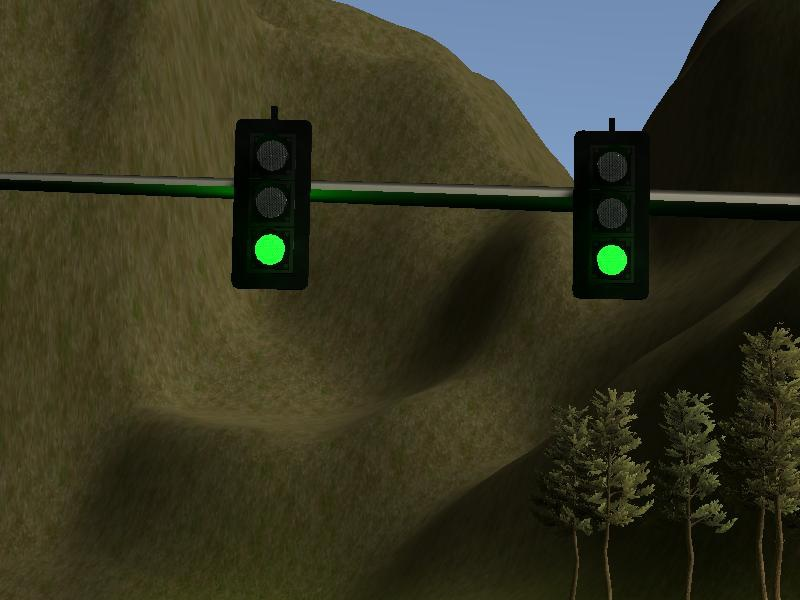Green: (232, 115, 313, 290), (571, 128, 651, 301)
